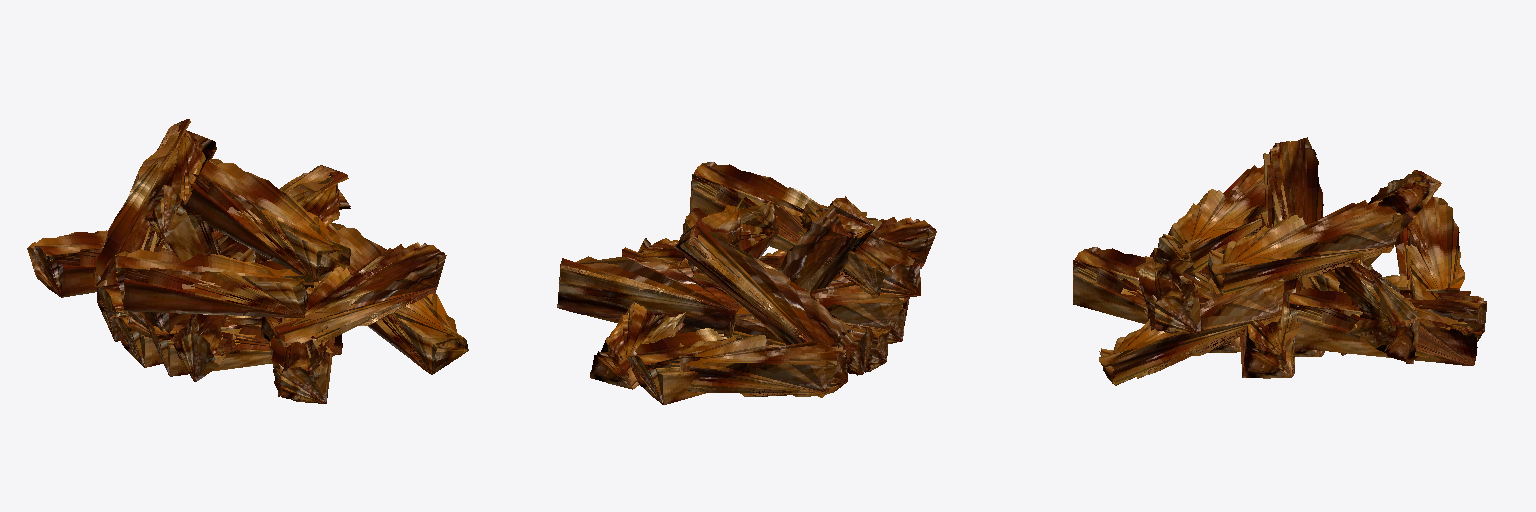
The picture shows the model from 3 angles: view 1: azimuth 30°, elevation 25°; view 2: azimuth 150°, elevation 25°; view 3: azimuth 270°, elevation 25°; orthographic projection.
Parts seen in each view (by area): view 1: Cube.008_Cube.012, Cube.014_Cube.018, Cube.016_Cube.020, Cube.009_Cube.013, Cube.015_Cube.019, Cube.011_Cube.015, Cube.010_Cube.014, Cube.004_Cube.008, Cube.002_Cube.006, Cube.013_Cube.017, Cube.003_Cube.007, Cube_Cube.001 (+2 smaller); view 2: Cube.013_Cube.017, Cube.009_Cube.013, Cube.011_Cube.015, Cube.016_Cube.020, Cube.002_Cube.006, Cube.008_Cube.012, Cube.006_Cube.010, Cube.012_Cube.016, Cube.014_Cube.018, Cube.005_Cube.009, Cube.010_Cube.014, Cube.001_Cube.005 (+2 smaller); view 3: Cube.014_Cube.018, Cube.015_Cube.019, Cube.012_Cube.016, Cube.008_Cube.012, Cube.011_Cube.015, Cube.013_Cube.017, Cube.010_Cube.014, Cube.002_Cube.006, Cube.016_Cube.020, Cube.007_Cube.011, Cube.009_Cube.013, Cube.006_Cube.010.
Part boxes in pixels (x1,y1,x2,y2): Cube.008_Cube.012: (115,249,314,317); Cube.014_Cube.018: (186,159,350,281); Cube.016_Cube.020: (261,242,446,347); Cube.009_Cube.013: (93,119,216,286); Cube.015_Cube.019: (326,223,468,374); Cube.011_Cube.015: (27,230,167,297); Cube.010_Cube.014: (270,325,334,403); Cube.004_Cube.008: (149,314,342,376); Cube.002_Cube.006: (145,185,236,262); Cube.013_Cube.017: (212,165,350,262); Cube.003_Cube.007: (170,314,235,381); Cube_Cube.001: (110,313,163,367); Cube.013_Cube.017: (557,256,741,337); Cube.009_Cube.013: (674,219,855,346); Cube.011_Cube.015: (679,335,847,397); Cube.016_Cube.020: (689,162,826,251); Cube.002_Cube.006: (777,196,875,291); Cube.008_Cube.012: (799,203,920,298); Cube.006_Cube.010: (627,328,772,404); Cube.012_Cube.016: (590,258,689,389); Cube.014_Cube.018: (688,198,778,283); Cube.005_Cube.009: (706,281,903,337); Cube.010_Cube.014: (765,217,936,268); Cube.001_Cube.005: (730,316,874,374); Cube.014_Cube.018: (1208,200,1402,295); Cube.015_Cube.019: (1099,275,1283,385); Cube.012_Cube.016: (1285,288,1483,365); Cube.008_Cube.012: (1155,165,1265,273); Cube.011_Cube.015: (1395,196,1464,307); Cube.013_Cube.017: (1334,263,1420,363); Cube.010_Cube.014: (1073,247,1229,345); Cube.002_Cube.006: (1261,137,1323,227); Cube.016_Cube.020: (1136,248,1201,333); Cube.007_Cube.011: (1240,278,1301,378); Cube.009_Cube.013: (1365,170,1441,266); Cube.006_Cube.010: (1384,275,1486,333).
Size of the model in its own units: 0.3287 by 0.1833 by 0.3961.
Materials: 1 (1 with a texture image).